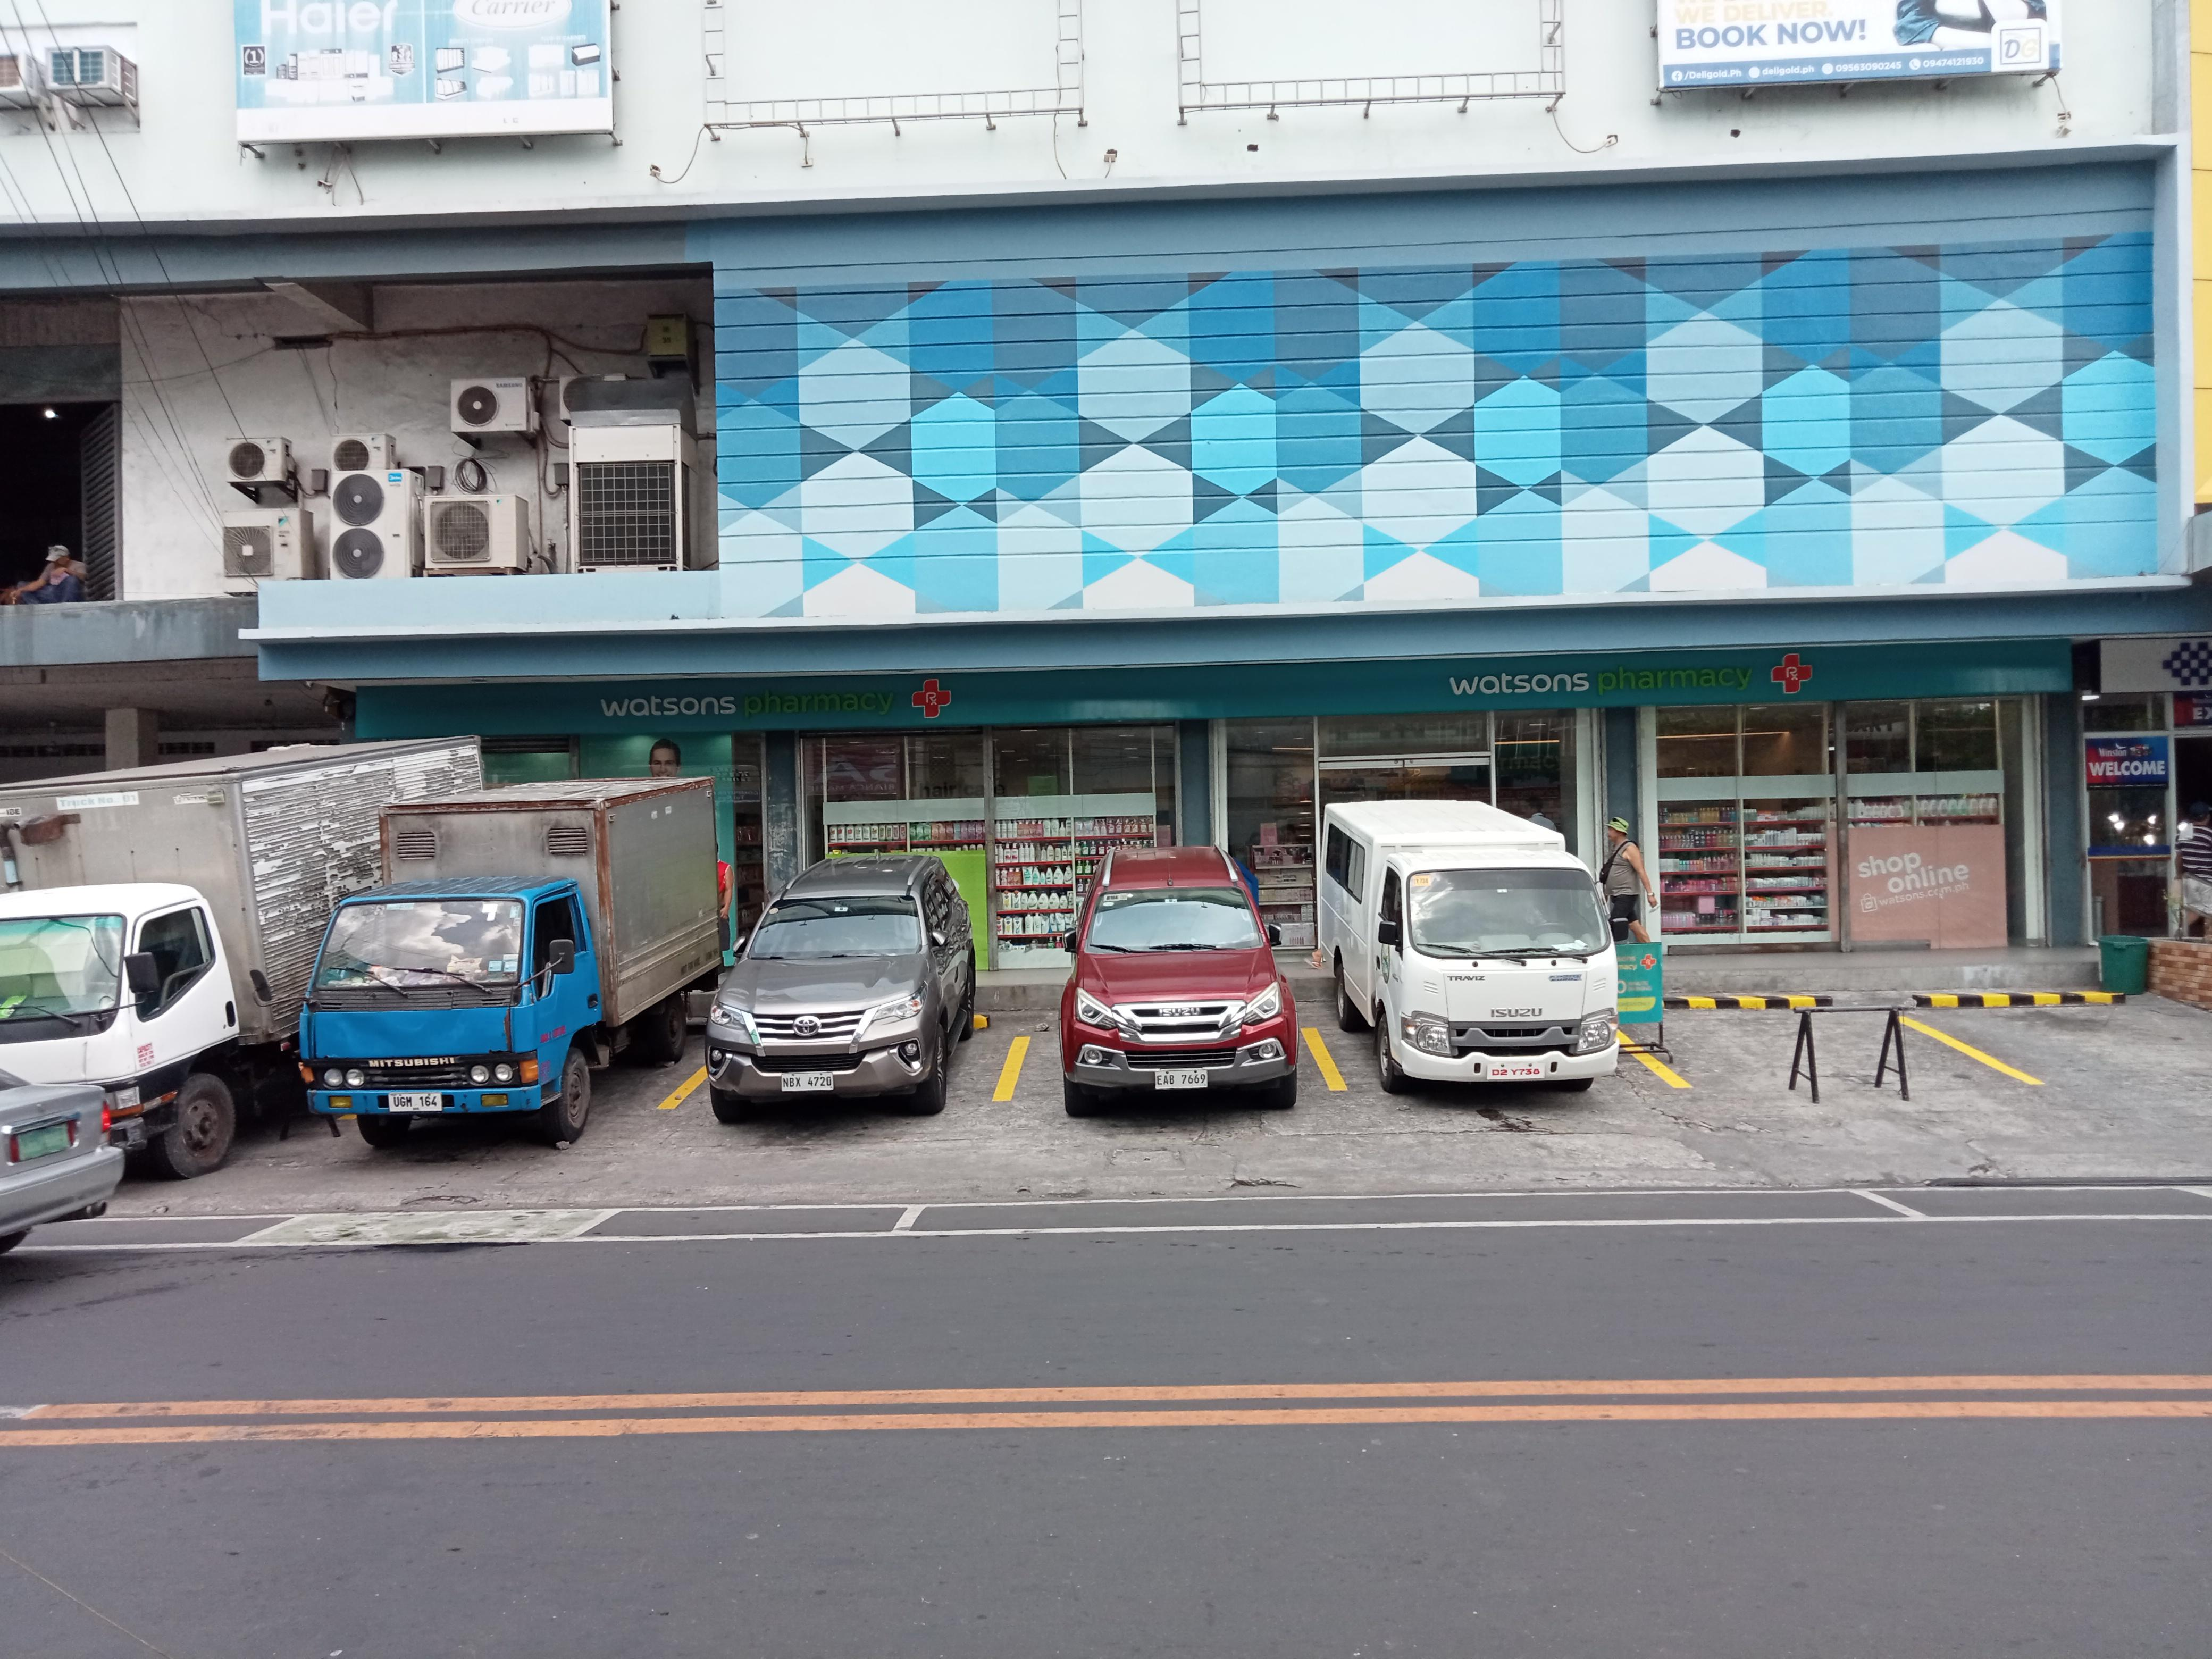occupied: (639, 1007, 1045, 1117), (1287, 1009, 1703, 1103), (988, 1004, 1357, 1107)
vacant: (1559, 992, 2062, 1098), (1848, 985, 2212, 1093), (549, 1201, 935, 1244), (1839, 1183, 2209, 1227)
